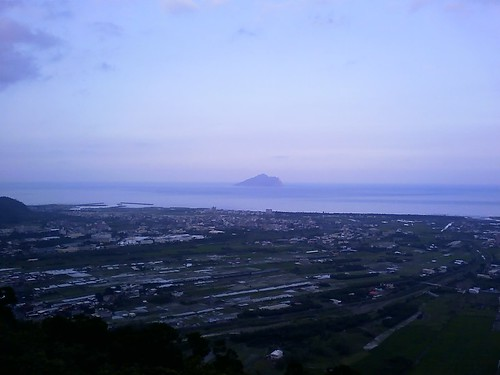turtleIsland: (234, 173, 281, 186)
